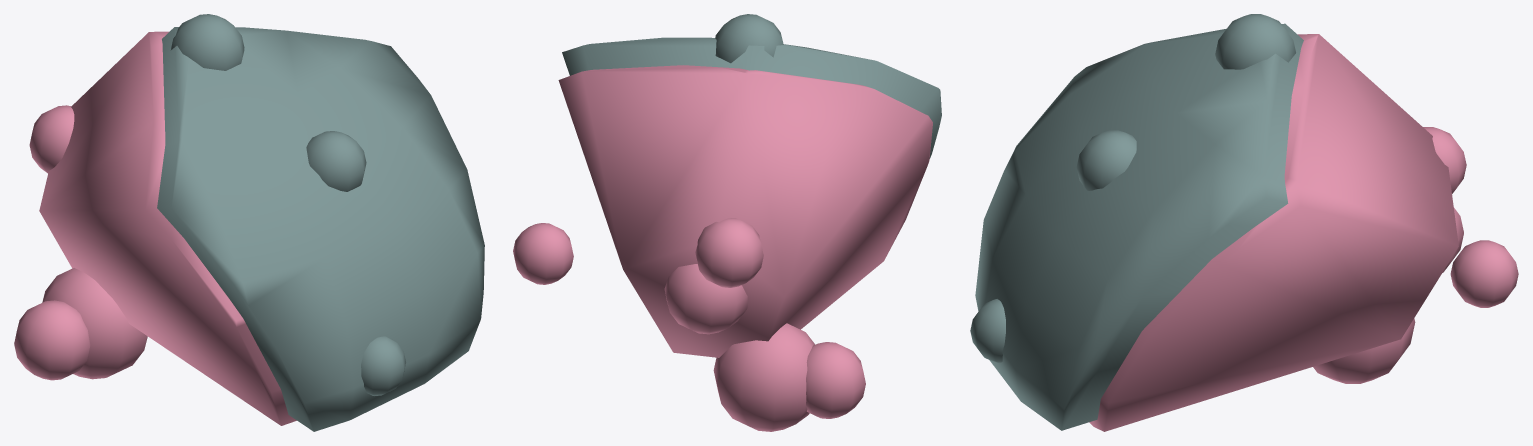
Rendered from chunk34.glb.
3 views of the same model, side by side, from view 1: azimuth 30°, elevation 25°; view 2: azimuth 150°, elevation 25°; view 3: azimuth 270°, elevation 25° (orthographic). The views are drawn at different scales.
Visible parts, largest first — view 1: skin, flesh; view 2: flesh, skin; view 3: skin, flesh.
Boxes of the visible parts, left/top/right/bottom form: skin: left=157, top=14, right=484, bottom=431; flesh: left=14, top=31, right=296, bottom=425; flesh: left=513, top=65, right=932, bottom=431; skin: left=562, top=14, right=941, bottom=158; skin: left=970, top=14, right=1303, bottom=430; flesh: left=1089, top=34, right=1518, bottom=431.
Size of the model in its own units: 0.7353 by 0.7346 by 0.923.
